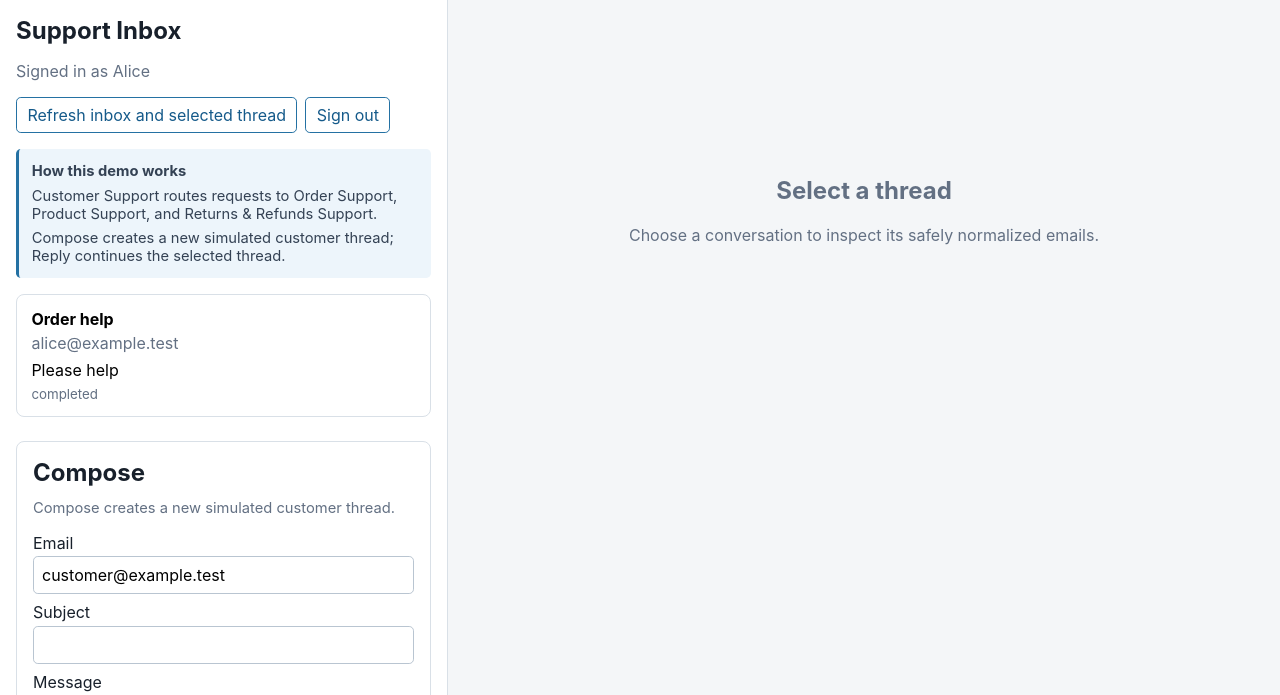
Test case: Support Inbox › shows a safe pending notice without a continuation control
Expected: the text "Order help" is shown, [31, 309, 114, 329]
Type "Refund" into the field labelled "Subject" at [224, 645], box [33, 626, 414, 664]
(page scrolled)
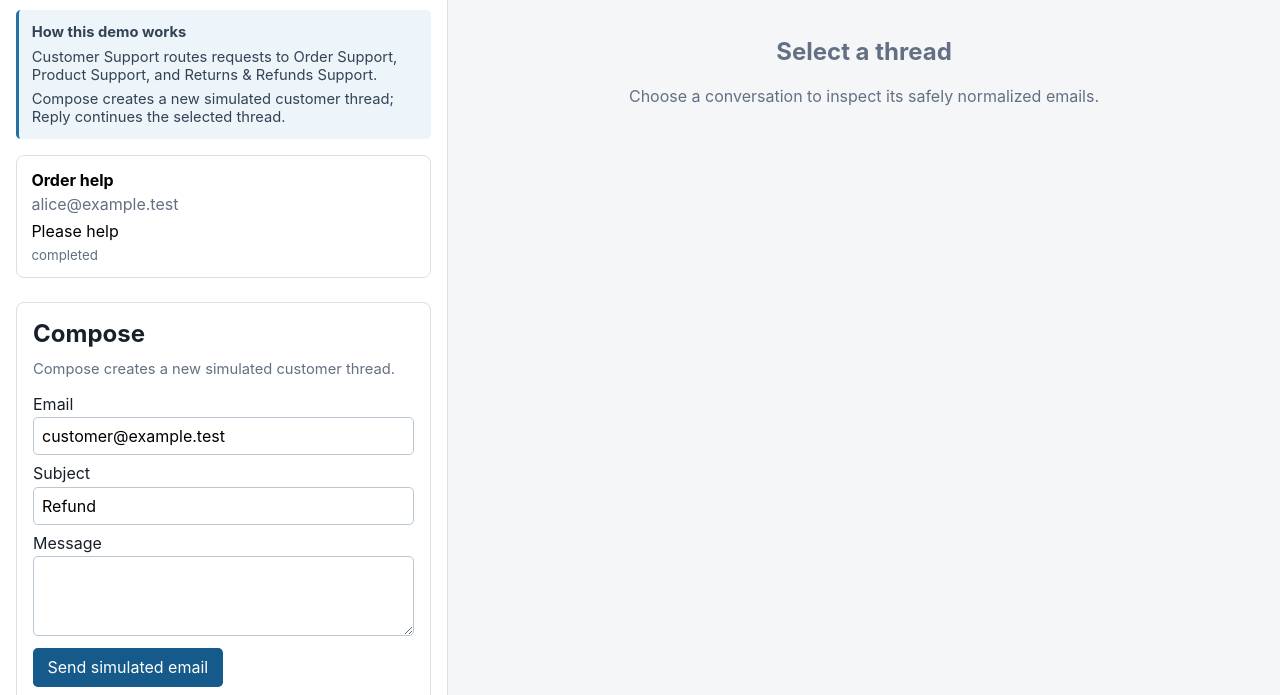
Type "Please refund this." into the text box labelled "Message" at [224, 596], box [33, 556, 414, 636]
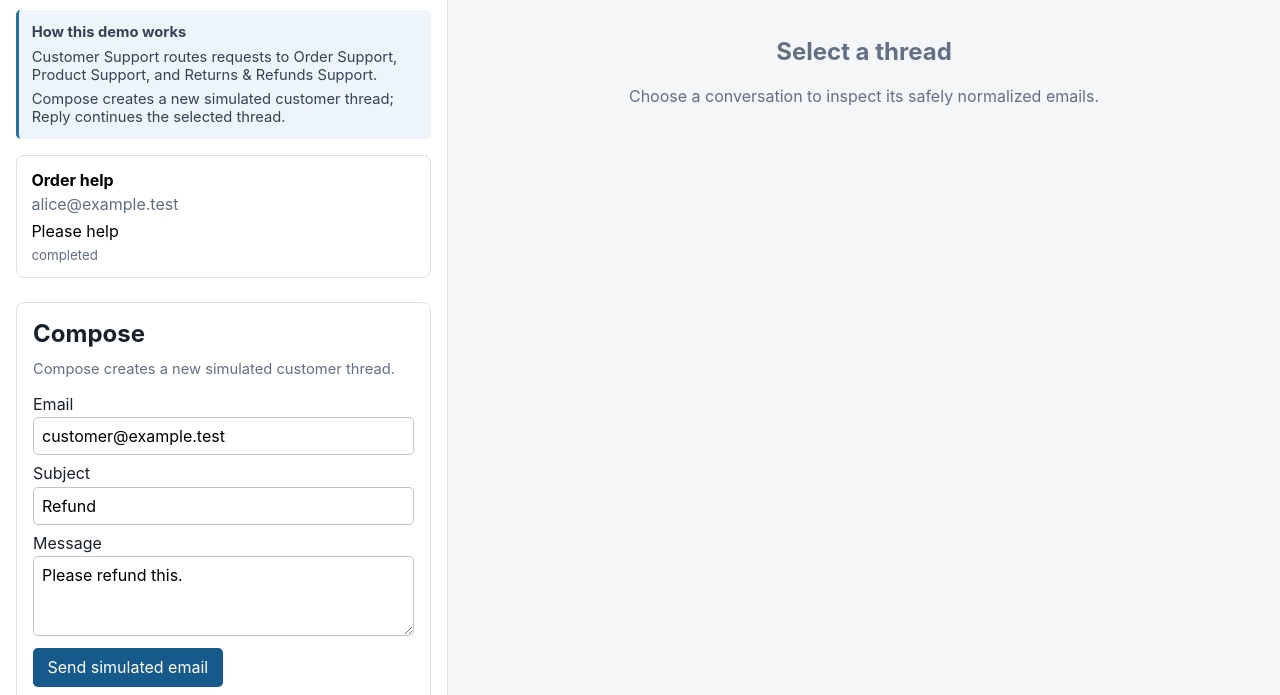
Click the button "Send simulated email" at [128, 667], box [33, 648, 223, 687]
(page scrolled)
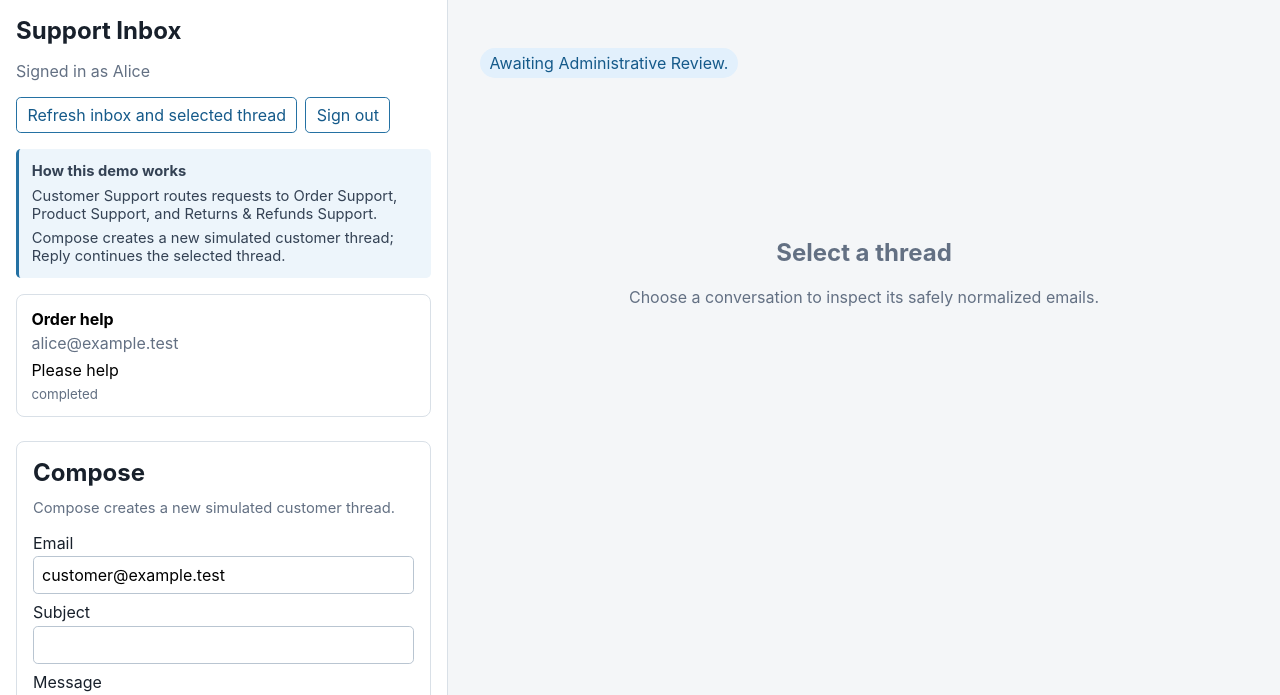
Expected: the message shows "Awaiting administrative review", [490, 53, 728, 73]
